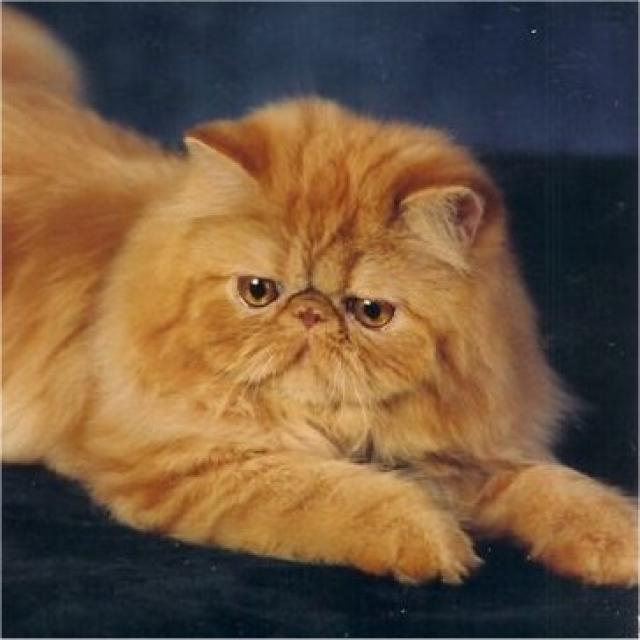Persian: (130, 91, 525, 428)
